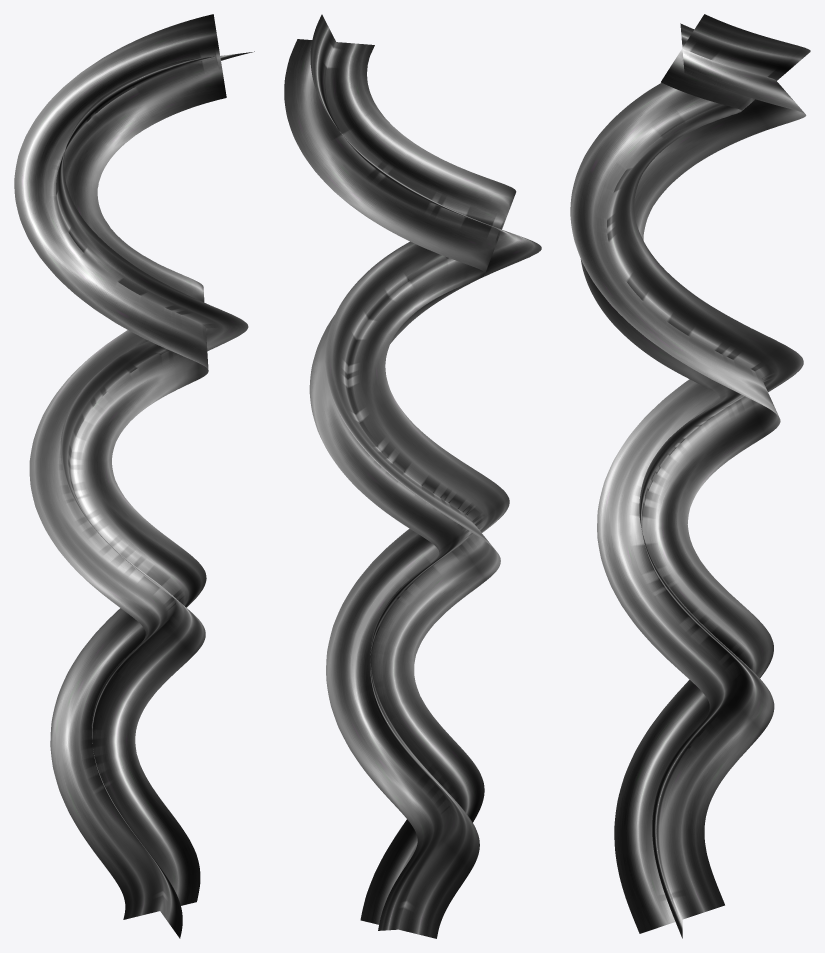
File: 0353_kapuqiqi_longjuanfeng_M_02.glb
The picture shows the model from 3 angles, left to right: view 1: azimuth 30°, elevation 25°; view 2: azimuth 150°, elevation 25°; view 3: azimuth 270°, elevation 25°; orthographic projection. The views are drawn at different scales.
Size of the model in its own units: 0.5809 by 2.2 by 0.5024.
1 material, 1 textured.
